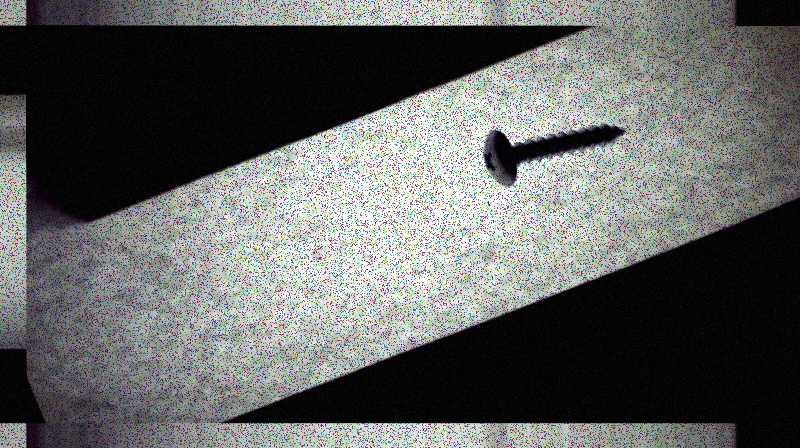S003: (478, 120, 629, 191)
